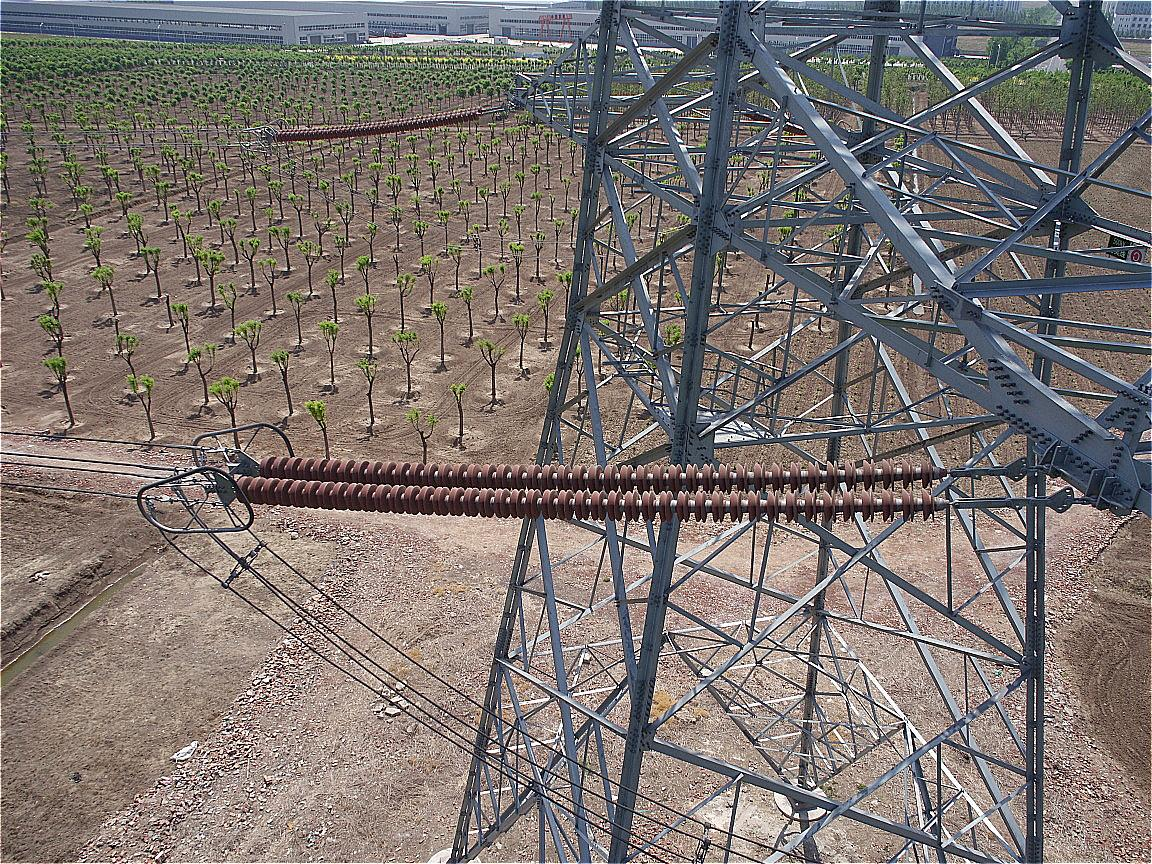insultor2: (235, 426, 964, 538)
